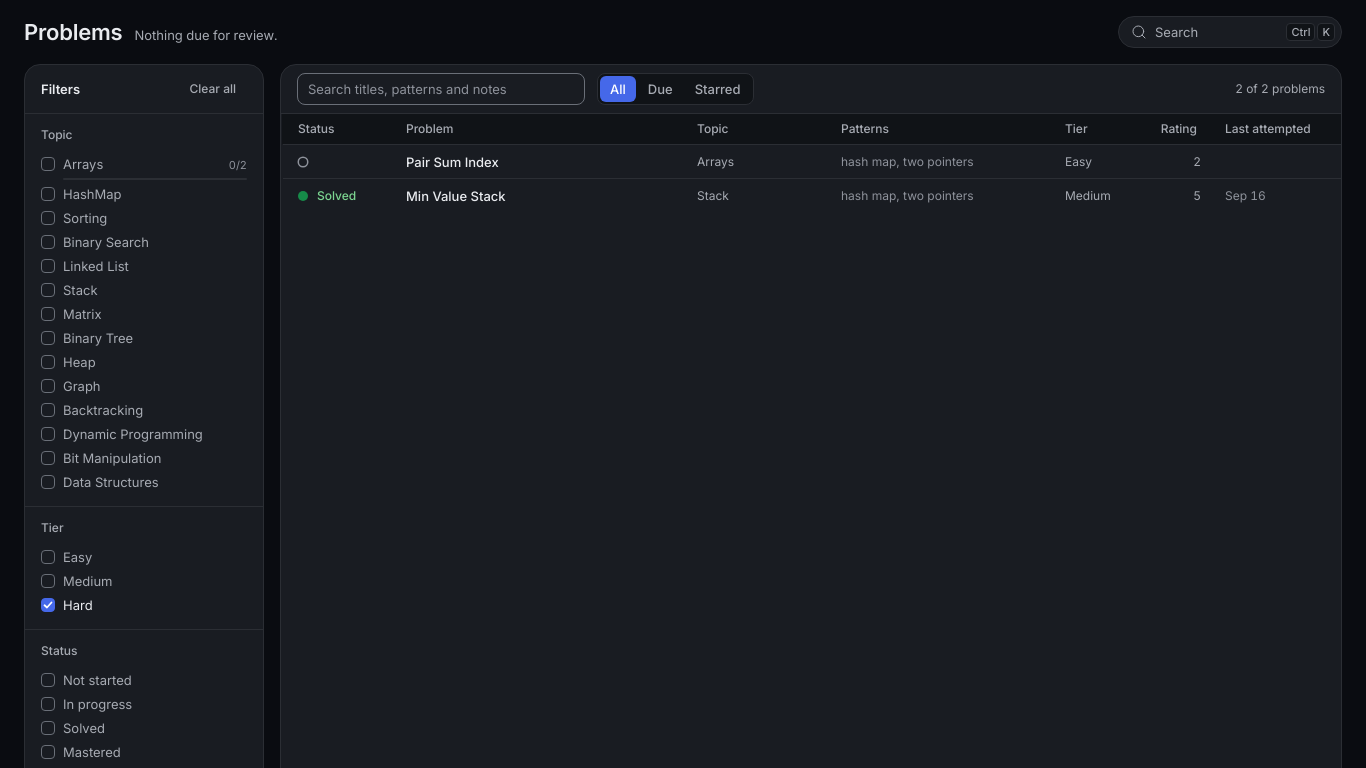
filters › keeps focus in the filter card when Clear all takes itself away
Check: the row "Pair Sum Index Arrays hash map, two pointers Easy 2" is shown, box x1=282 y1=144 x2=1341 y2=178
What coordinates should you click on to do the following:
click the button "Clear all"
I would click on:
 (213, 89)
Its box is x1=178 y1=75 x2=247 y2=103.
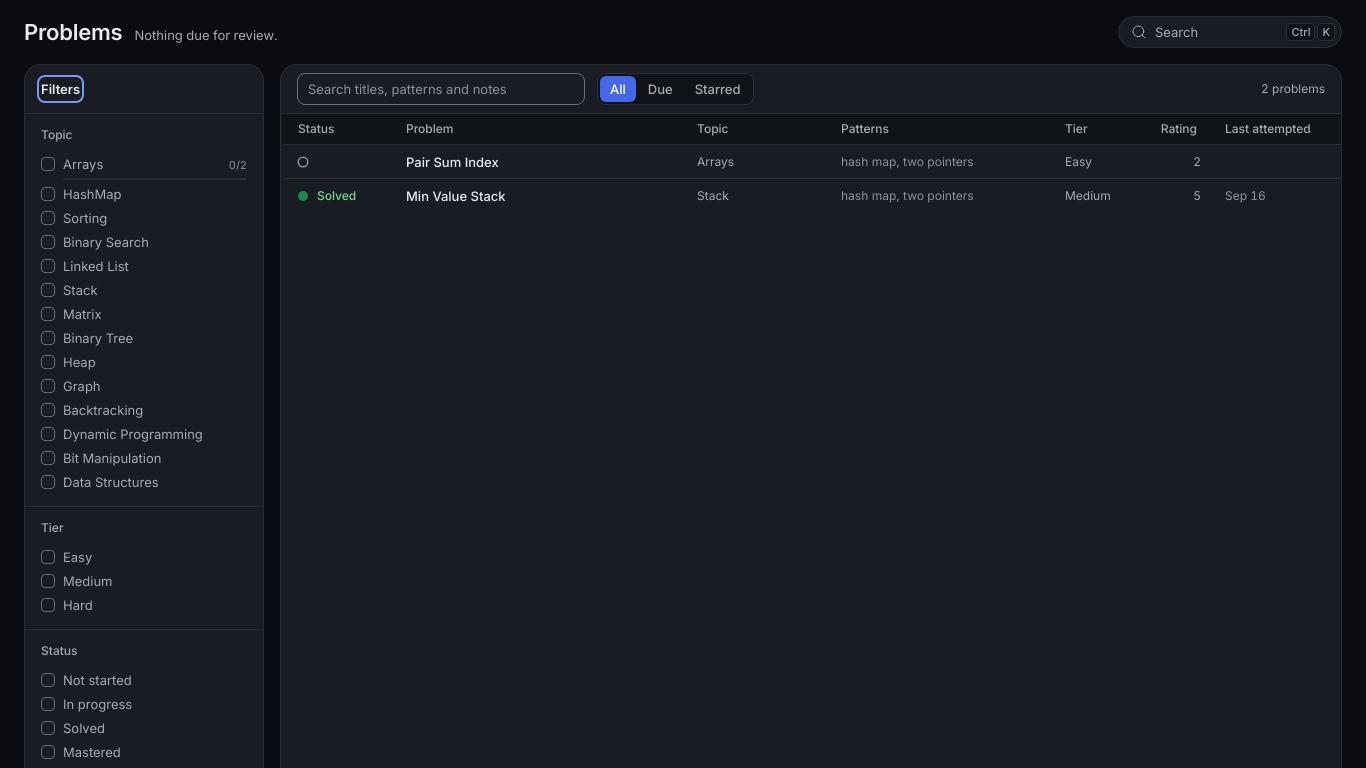
Check: the button "Clear all" is gone
